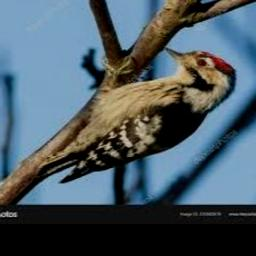Woodpecker: (36, 47, 236, 183)
